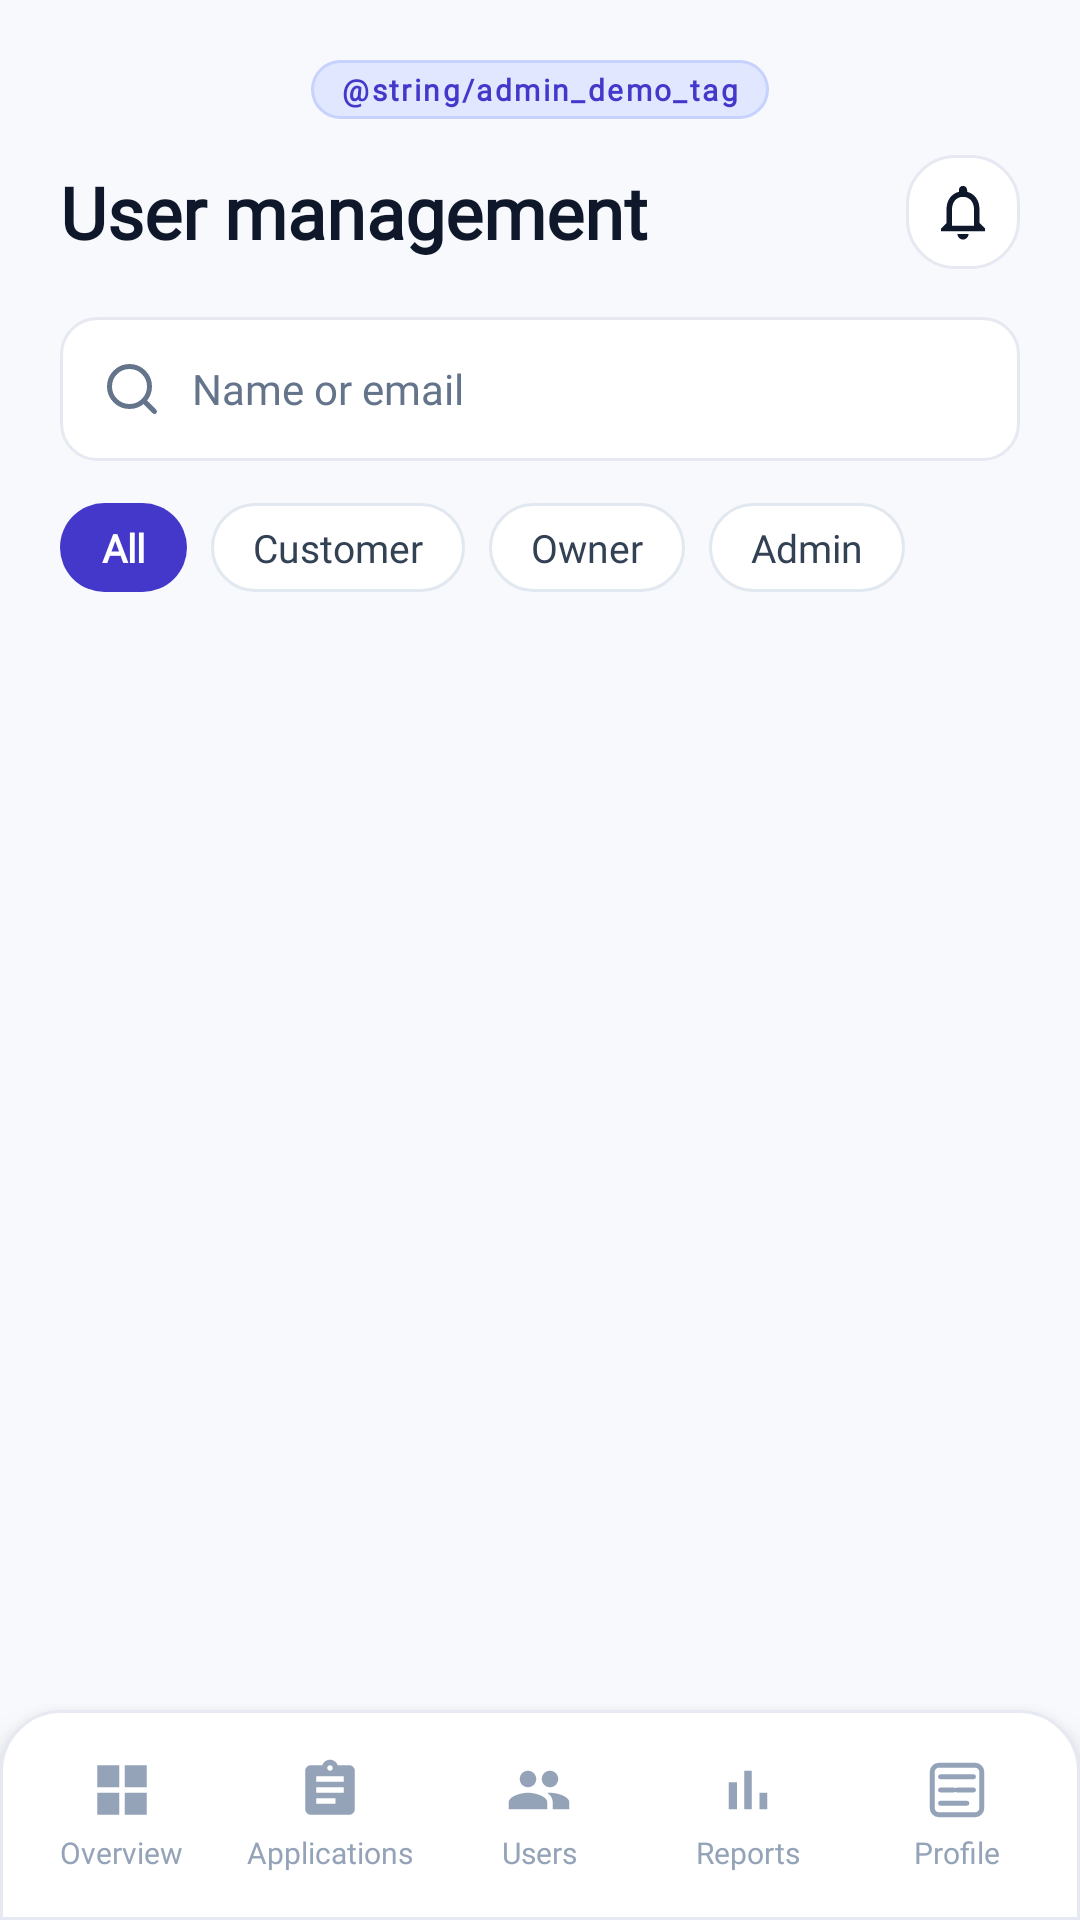

Named icons in this screenshot (1080w x 1920h) and their centers, (x=x, y=y):
Notifications: (x=963, y=213)
search: (x=132, y=389)
